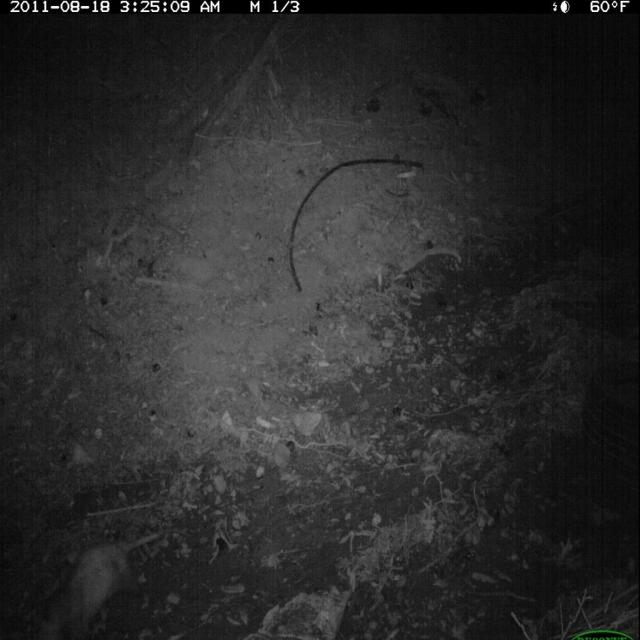opossum: (41, 520, 202, 634)
